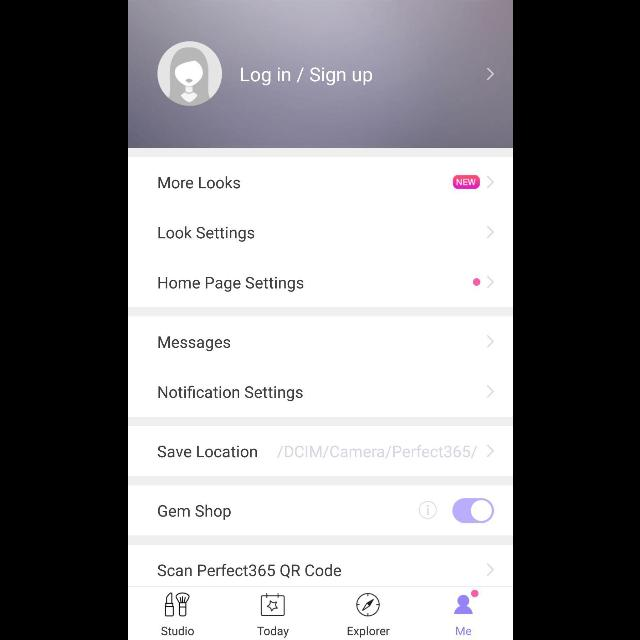icon: (156, 42, 222, 106), (260, 594, 284, 616), (356, 593, 378, 617), (452, 596, 472, 614), (418, 501, 436, 519), (486, 444, 494, 458), (486, 386, 494, 398), (486, 335, 494, 347), (486, 276, 494, 288), (486, 226, 494, 238), (486, 176, 494, 188), (486, 68, 494, 80), (486, 563, 492, 575)
image: (164, 593, 190, 617)
switch: (451, 497, 493, 523)
text: (276, 445, 476, 459), (157, 564, 341, 578), (240, 68, 372, 86), (158, 385, 302, 401), (158, 277, 302, 293), (158, 226, 254, 242), (157, 446, 257, 458), (157, 504, 230, 520), (158, 336, 230, 352), (158, 176, 240, 188), (347, 626, 389, 638), (256, 626, 288, 638), (160, 626, 193, 636), (456, 626, 470, 636)
textbutton: (452, 175, 480, 189)
